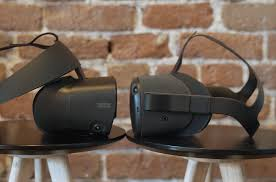oculus: (129, 73, 222, 143), (33, 73, 121, 141)
